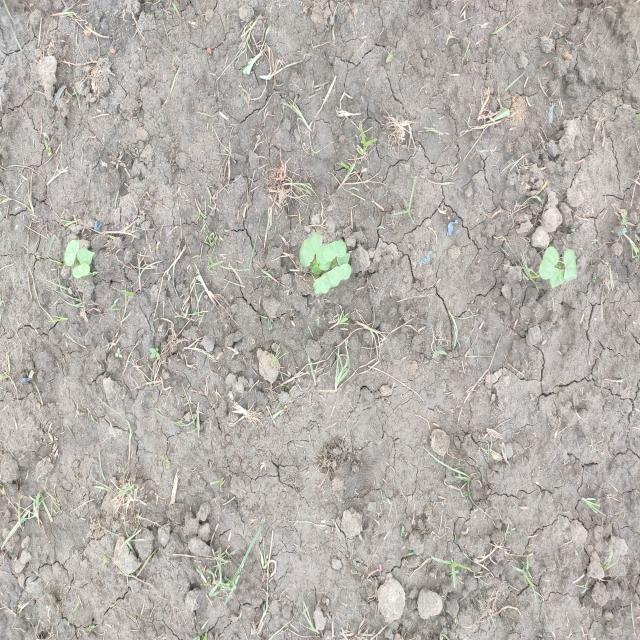seedling_s4: (300, 232, 322, 267), (313, 270, 340, 294), (539, 246, 558, 279), (322, 240, 346, 261), (564, 249, 577, 282), (316, 245, 333, 270), (64, 239, 79, 266), (331, 263, 351, 281), (549, 268, 565, 288), (77, 248, 95, 265), (73, 263, 90, 278), (310, 259, 322, 275), (337, 253, 350, 266)
